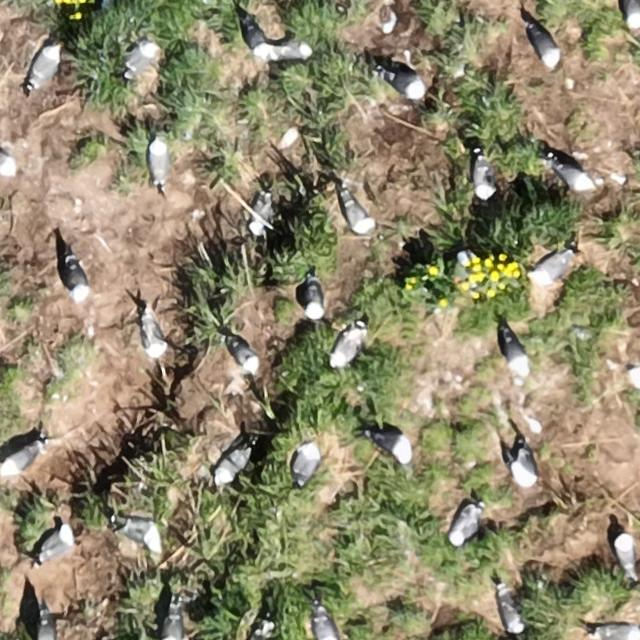umineko: (141, 304, 165, 361), (449, 251, 480, 289), (530, 29, 560, 68), (31, 44, 60, 84), (330, 329, 360, 366), (376, 432, 414, 461), (387, 71, 426, 99), (42, 526, 74, 560), (556, 162, 594, 189), (532, 253, 570, 280), (216, 448, 246, 482), (124, 42, 155, 74), (120, 518, 158, 544), (344, 196, 371, 232), (500, 592, 523, 634), (3, 444, 37, 472), (453, 507, 480, 542), (230, 339, 258, 371), (294, 446, 318, 483), (614, 534, 636, 574), (66, 260, 88, 298), (472, 159, 493, 198), (150, 140, 168, 184), (514, 452, 536, 486), (304, 282, 324, 319), (505, 336, 526, 370), (596, 623, 638, 639), (313, 611, 336, 640), (252, 193, 271, 228), (246, 23, 268, 53), (278, 43, 311, 60), (164, 612, 184, 640), (625, 1, 639, 30), (39, 619, 56, 640), (630, 366, 640, 392)
